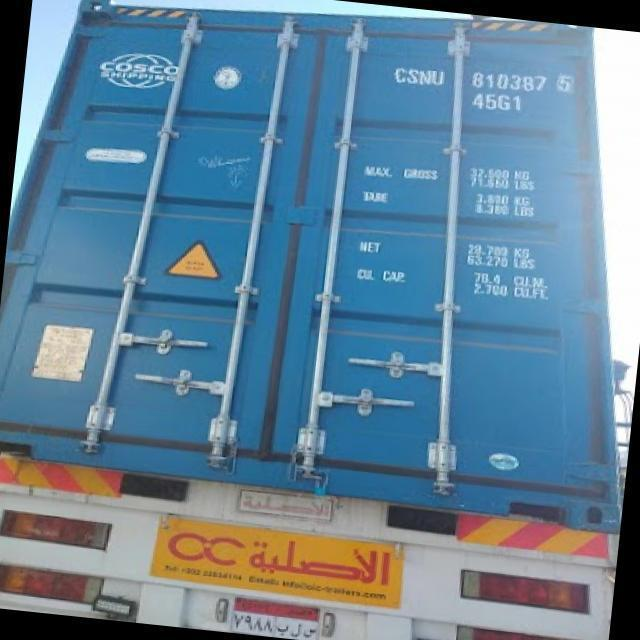ISO: (473, 94, 522, 112)
container_number: (396, 72, 572, 92)
